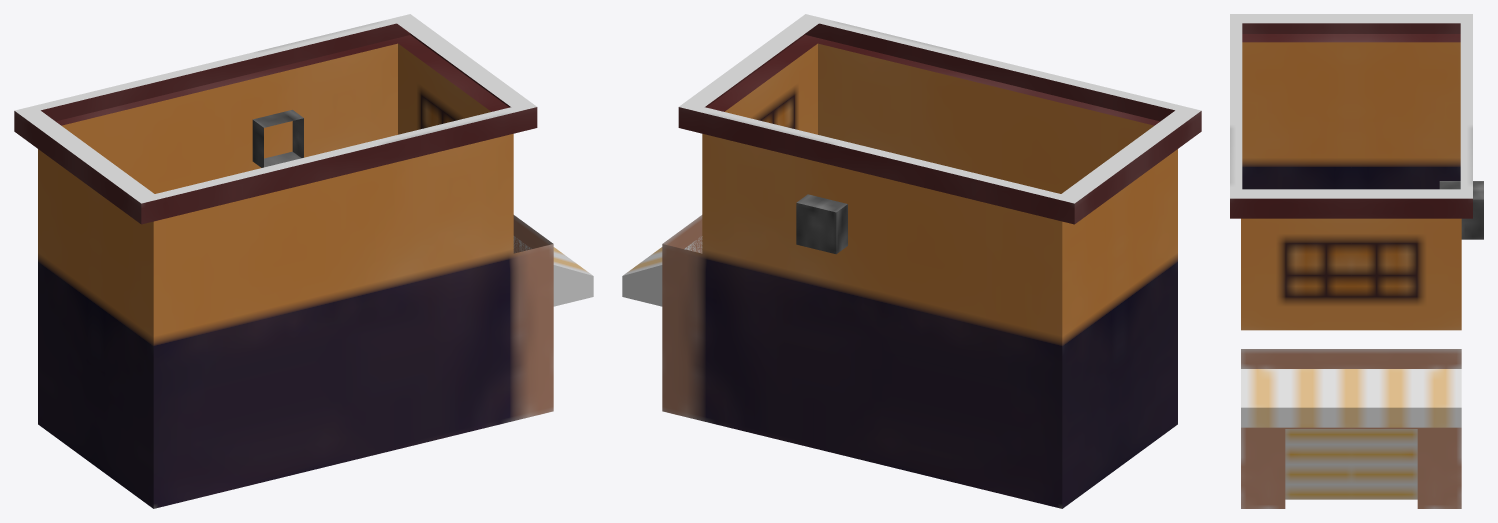
Rendered from m_bat01.fbx.
3 renders of one model, left to right at view 1: azimuth 30°, elevation 25°; view 2: azimuth 150°, elevation 25°; view 3: azimuth 270°, elevation 25°, orthographic. The views are drawn at different scales.
Parts seen in each view (by area): view 1: Cube.001; view 2: Cube.001; view 3: Cube.001.
Boxes of the visible parts, x1=… form: Cube.001: x1=14, y1=14, x2=593, y2=508; Cube.001: x1=622, y1=14, x2=1201, y2=508; Cube.001: x1=1230, y1=14, x2=1483, y2=508.
Size of the model in its own units: 2290 by 1500 by 1150.
Materials: 1 (1 with a texture image).
